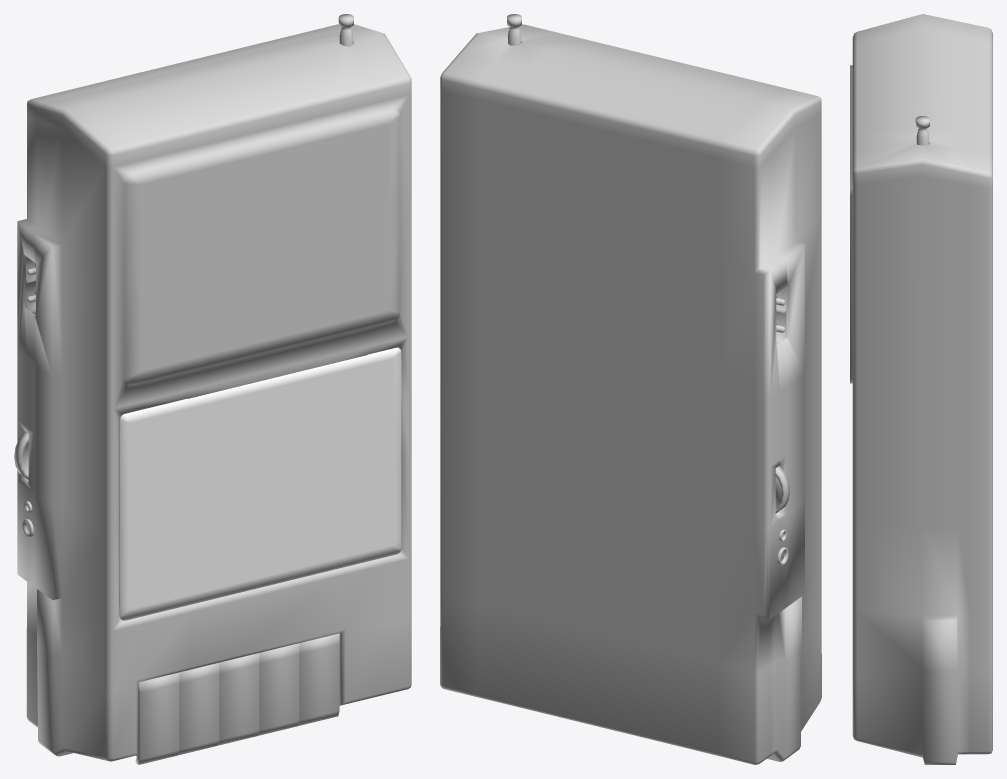
File: document.glb
The picture shows the model from 3 angles, left to right: view 1: azimuth 30°, elevation 25°; view 2: azimuth 150°, elevation 25°; view 3: azimuth 270°, elevation 25°; orthographic projection. The views are drawn at different scales.
Visible parts, largest first — view 1: cassette_player_body; view 2: cassette_player_body; view 3: cassette_player_body.
Boxes of the visible parts, x1=… form: cassette_player_body: x1=14, y1=14, x2=411, y2=764; cassette_player_body: x1=440, y1=14, x2=821, y2=764; cassette_player_body: x1=850, y1=14, x2=992, y2=764.
Size of the model in its own units: 0.1295 by 0.2368 by 0.0489.
3 materials, 1 textured.
